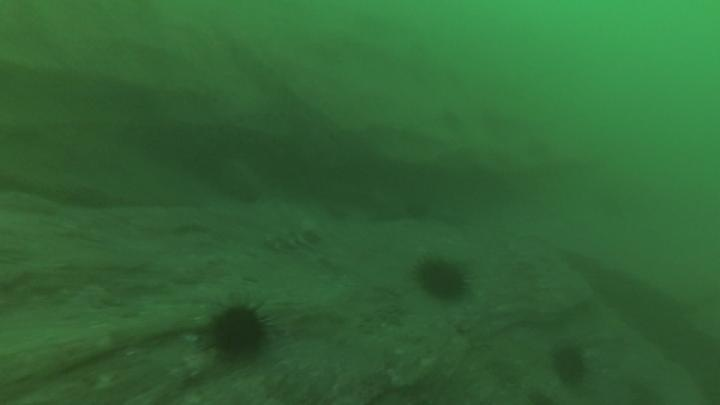echinus: (202, 297, 275, 366), (412, 253, 472, 304), (548, 341, 590, 388)
holothurian: (260, 218, 324, 255)
